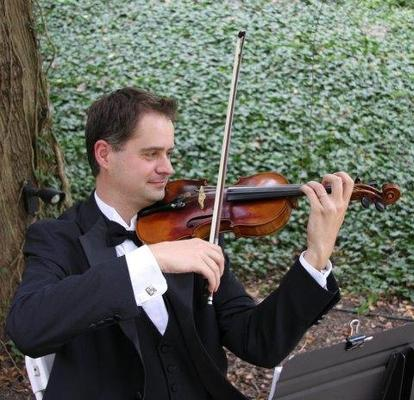person: (6, 89, 358, 400)
